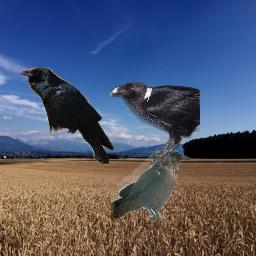Crow: (18, 67, 114, 165), (109, 81, 200, 170), (111, 150, 192, 224)
